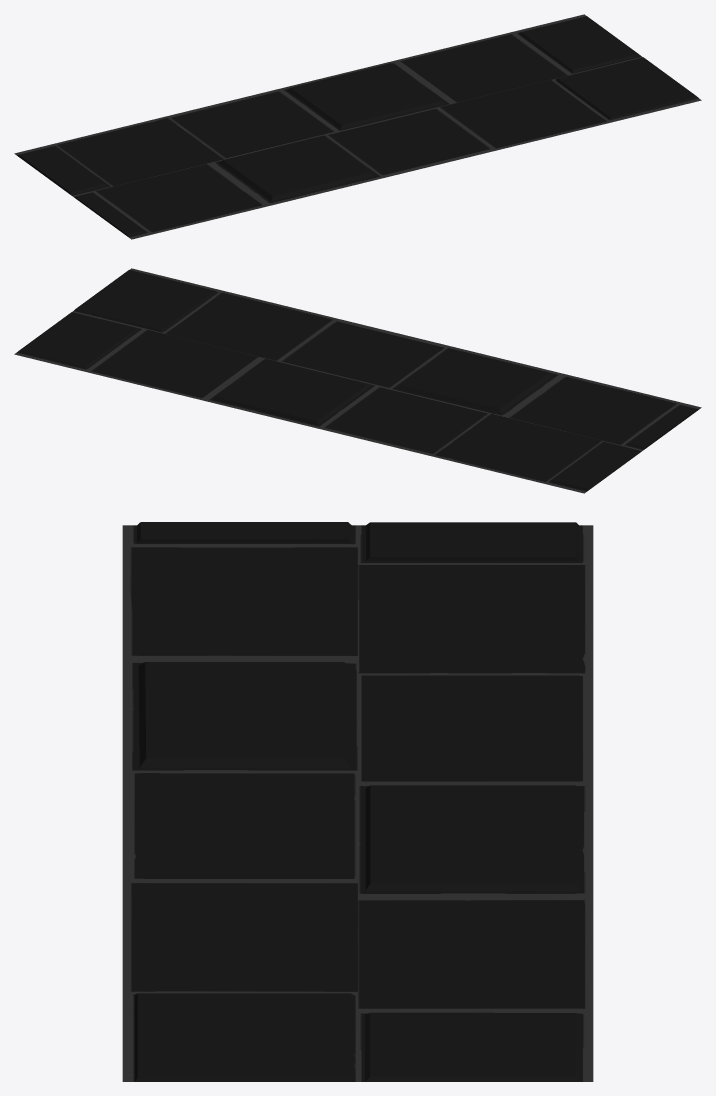
File: floor.fbx
The picture shows the model from 3 angles, top to bottom: view 1: azimuth 30°, elevation 25°; view 2: azimuth 150°, elevation 25°; view 3: azimuth 270°, elevation 25°; orthographic projection. The views are drawn at different scales.
Visible parts, largest first — view 1: Floor; view 2: Floor; view 3: Floor.
Boxes of the visible parts, x1=… form: Floor: x1=14, y1=14, x2=701, y2=239; Floor: x1=14, y1=268, x2=701, y2=493; Floor: x1=122, y1=522, x2=593, y2=1081.
Bounding box in the file's own units: 1400 × 7.68 × 500.
